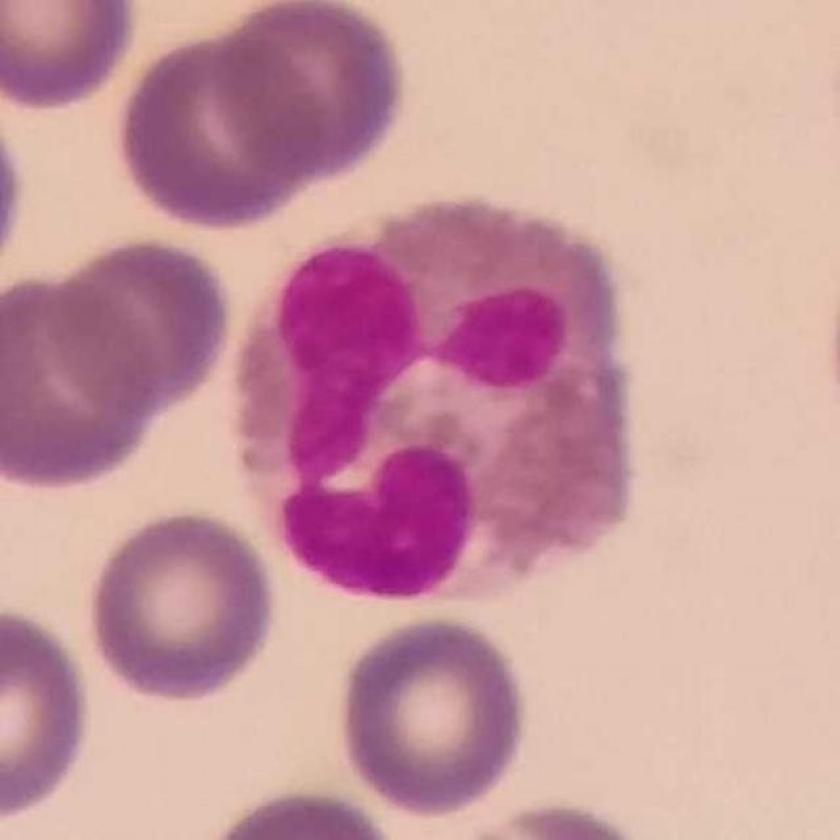eosinophil: (233, 195, 643, 601)
